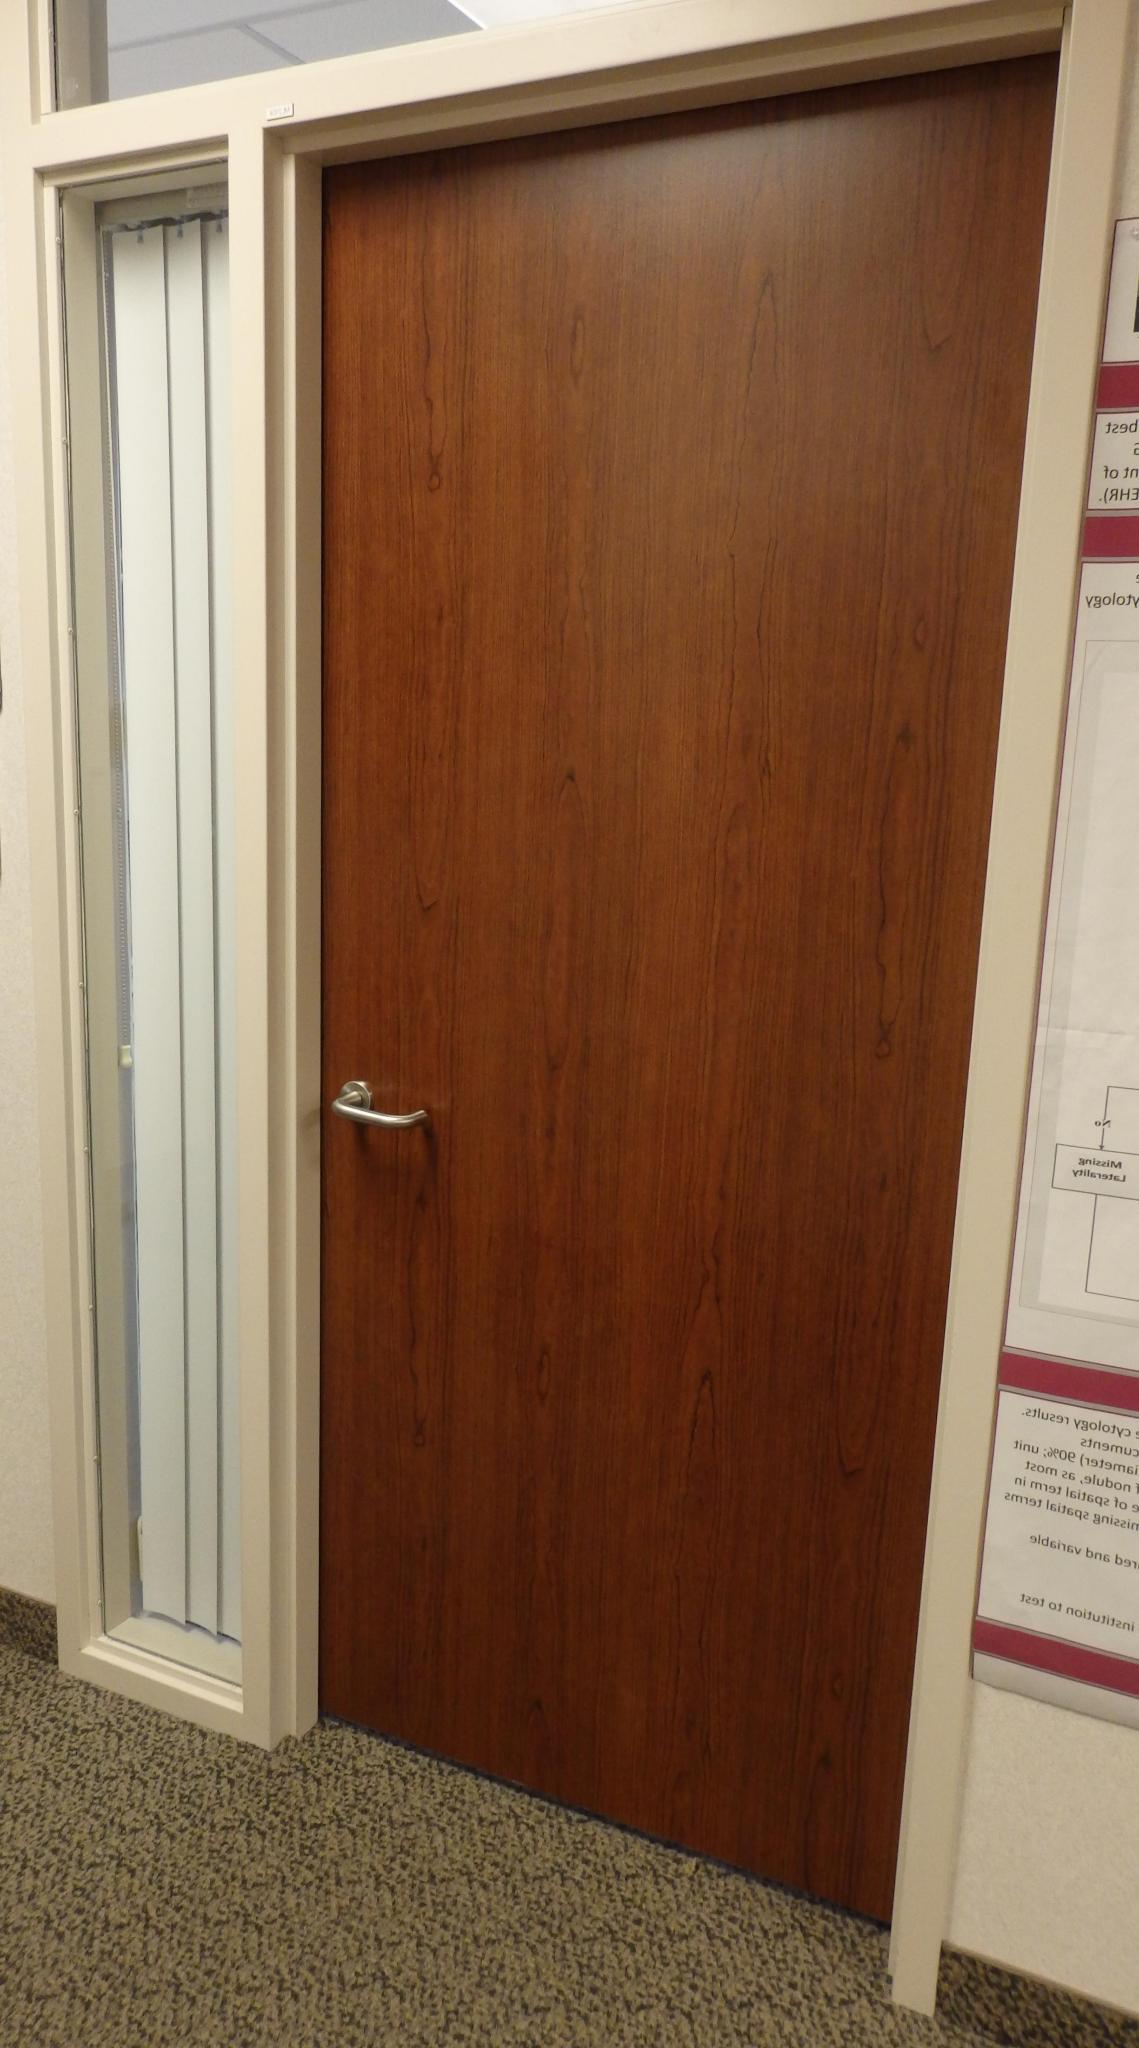door: (320, 144, 945, 1702)
handle: (337, 1044, 425, 1168)
